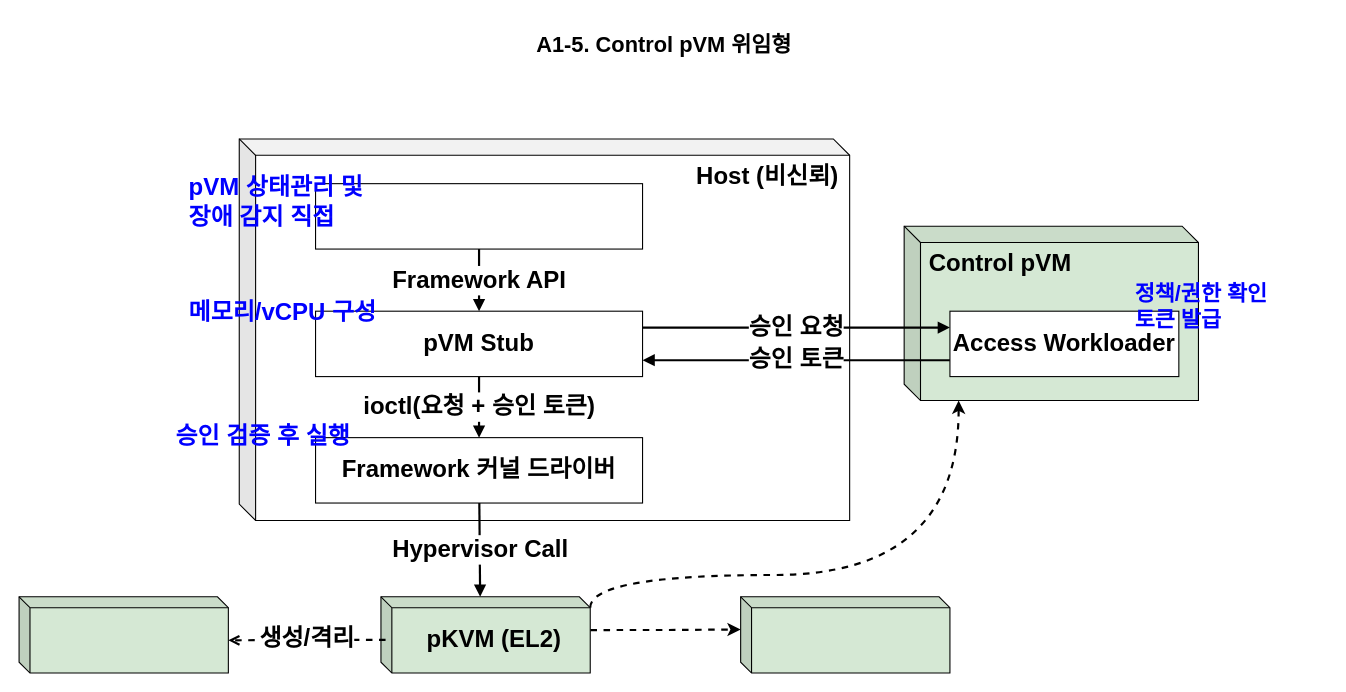
Image size: 1346x692. Some labels were removed from this diagram. The shapes that lost their labels are listed below. From the top down, each one's centre as x and y in pixels, then its label:
At (x=478, y=216): "Host Application".
At (x=123, y=634): "Secure Camera pVM".
At (x=845, y=634): "Secure AI pVM".
